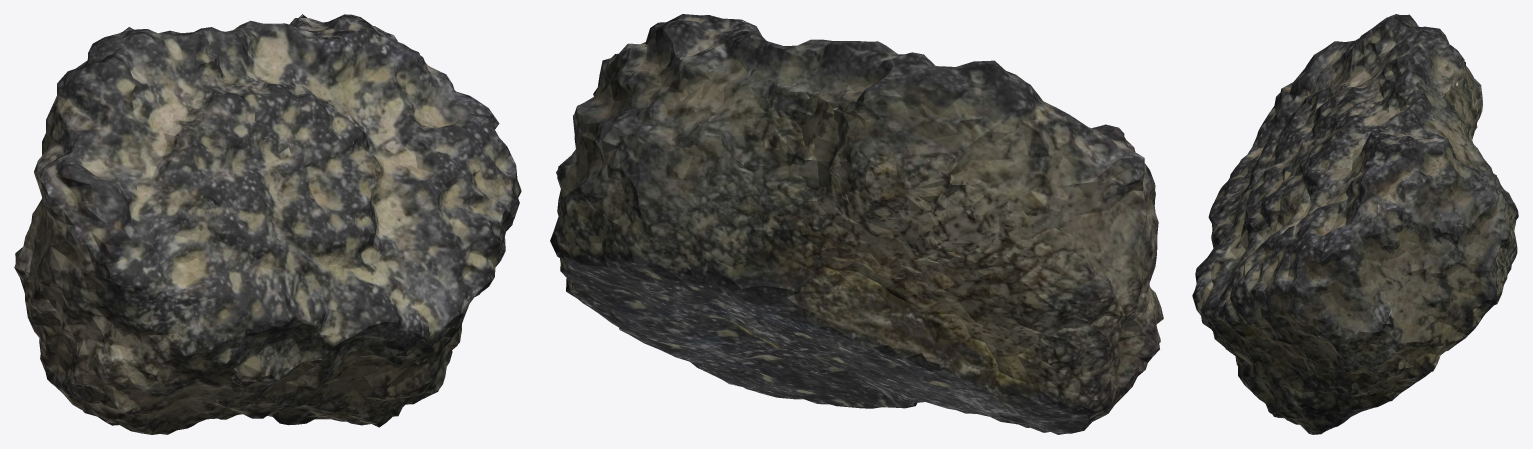
Rendered from asset.glb.
3 views of the same model, side by side, from view 1: azimuth 30°, elevation 25°; view 2: azimuth 150°, elevation 25°; view 3: azimuth 270°, elevation 25° (orthographic). The views are drawn at different scales.
Bounding box in the file's own units: 0.5001 × 0.388 × 0.356.
4 materials, 4 textured.
